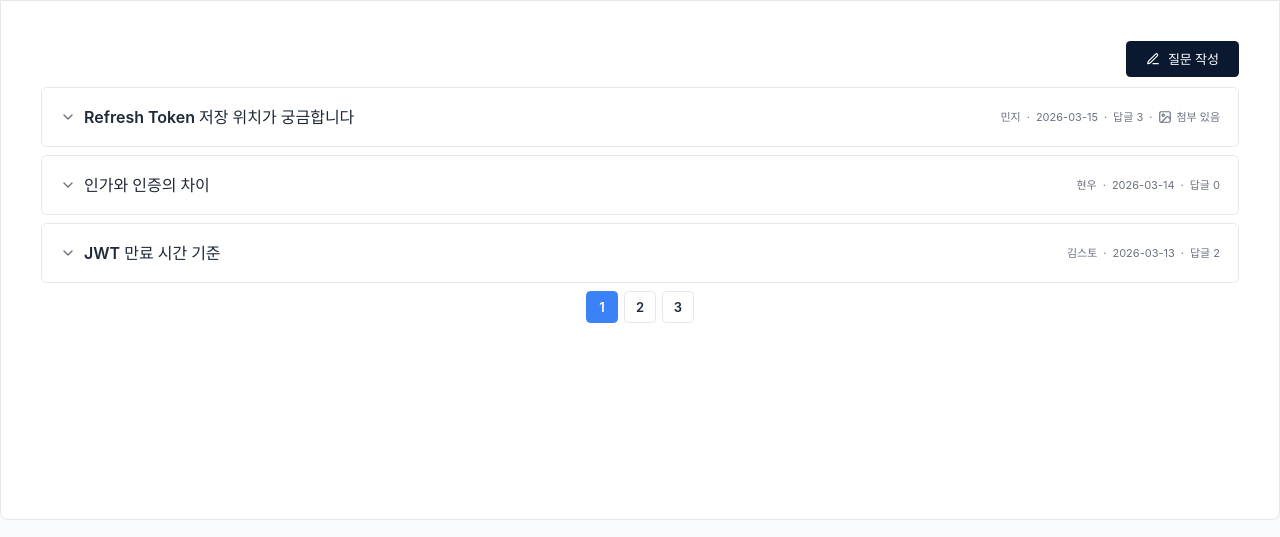
it: QuestionsPage › 선택한 페이지의 질문 목록으로 전환한다
This screenshot has width=1280, height=537.
Click the button named "2페이지".
click(640, 307)  # box [624,291,656,323]
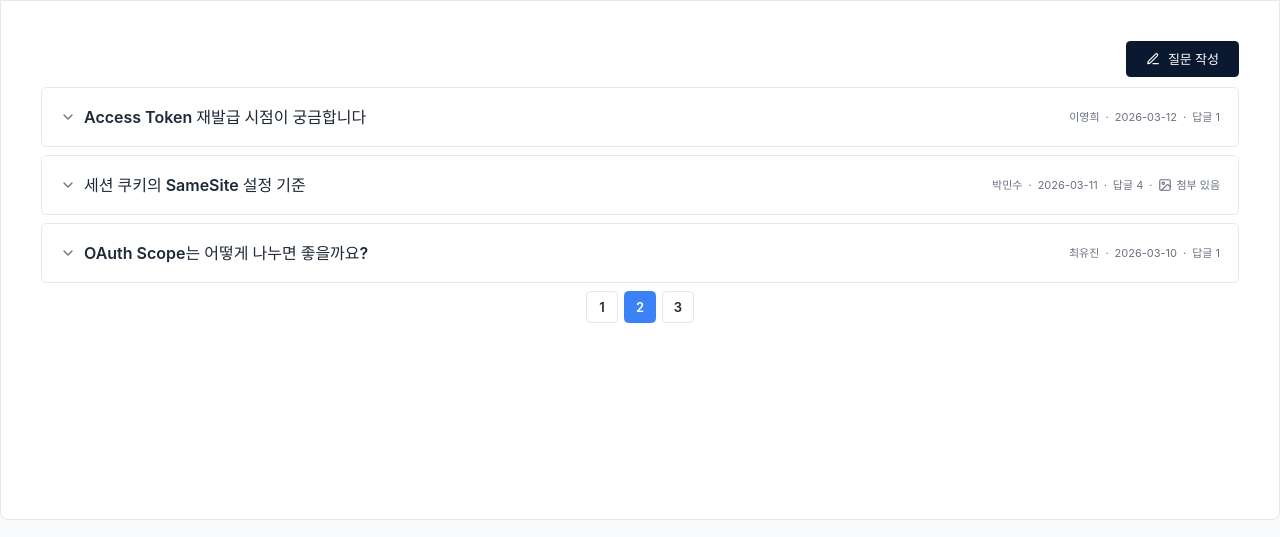
Check: the text "Access Token 재발급 시점이 궁금합니다" is shown, box [84,105,366,129]
Check: the button "Refresh Token 저장 위치가 궁금합니다" is gone
